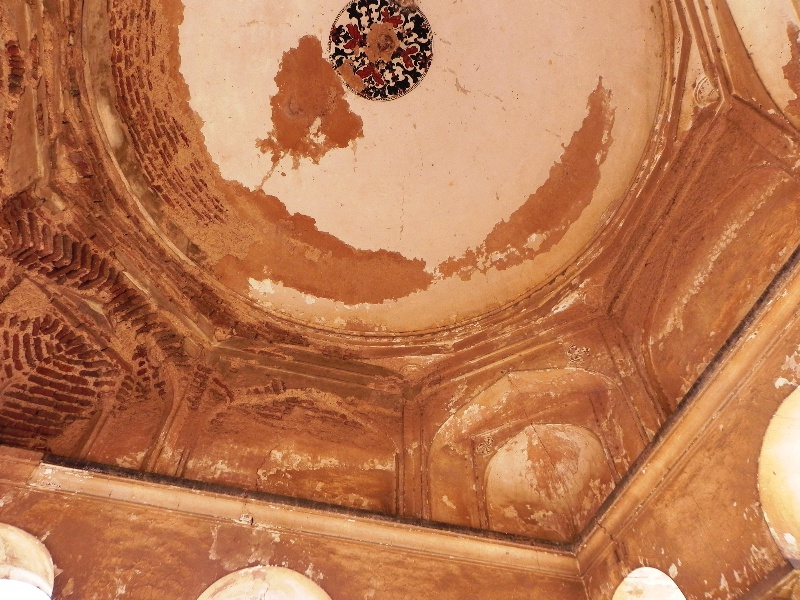Exposed Bricks: (4, 198, 175, 442), (112, 1, 201, 195)
Spalling: (488, 89, 612, 266)
